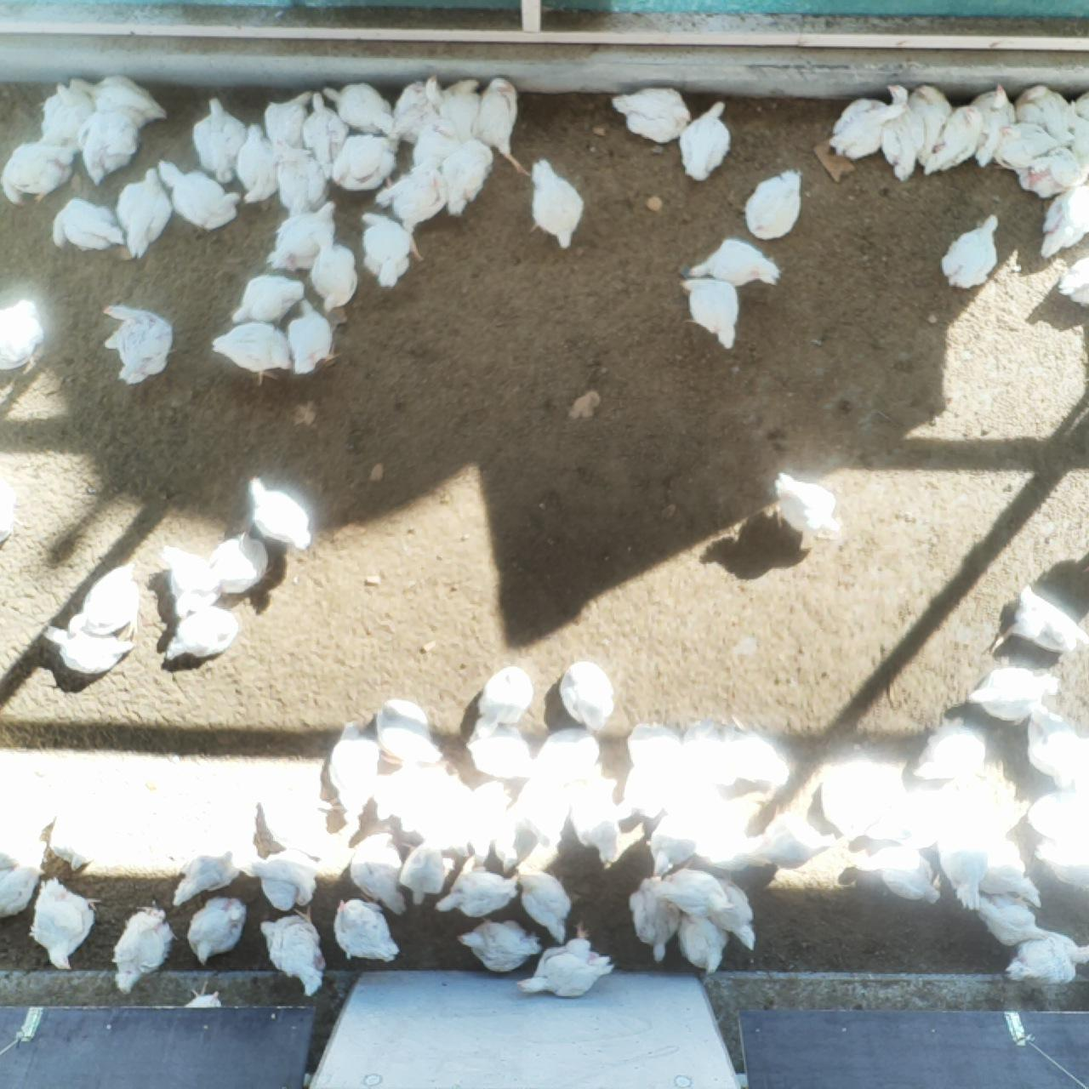chicken: (516, 918, 616, 999), (376, 162, 450, 265), (388, 74, 483, 150), (151, 157, 242, 235), (24, 873, 96, 970), (66, 559, 142, 647), (98, 304, 176, 387), (80, 95, 148, 188), (111, 903, 176, 999), (470, 75, 530, 178), (851, 841, 946, 905), (964, 665, 1065, 725), (825, 95, 909, 164), (257, 909, 322, 998), (254, 784, 328, 862), (523, 156, 585, 249), (1010, 583, 1089, 655), (68, 73, 171, 127), (682, 231, 783, 286), (455, 915, 544, 977), (0, 135, 74, 209), (113, 167, 173, 258), (937, 212, 1005, 292), (609, 82, 691, 147), (211, 322, 295, 385), (863, 793, 951, 853), (744, 162, 806, 246), (41, 622, 137, 675), (675, 274, 741, 351), (936, 816, 990, 910), (161, 543, 227, 619), (168, 846, 245, 911), (1002, 927, 1089, 984), (348, 830, 405, 917), (878, 83, 927, 184), (270, 200, 338, 272), (328, 133, 404, 197), (164, 604, 241, 667), (626, 879, 685, 961), (204, 529, 274, 598), (515, 863, 575, 943), (920, 102, 982, 179), (677, 97, 733, 182), (374, 695, 445, 762), (772, 471, 844, 537), (978, 836, 1044, 908), (1024, 713, 1089, 786), (246, 476, 310, 550), (306, 229, 362, 313), (274, 140, 330, 224), (356, 208, 414, 289), (331, 721, 379, 818), (473, 663, 535, 738), (191, 97, 245, 183), (318, 80, 396, 139), (964, 83, 1018, 168), (565, 780, 620, 863), (975, 891, 1052, 949), (645, 803, 702, 881), (753, 813, 835, 867), (188, 893, 247, 968), (722, 724, 792, 787), (690, 801, 753, 871), (700, 876, 758, 952), (432, 867, 516, 919), (228, 270, 306, 326), (912, 719, 986, 778), (467, 773, 517, 860), (511, 770, 568, 846), (419, 72, 480, 143), (333, 897, 397, 964), (302, 90, 349, 180), (50, 197, 124, 254), (287, 299, 341, 377), (39, 81, 94, 157), (247, 852, 316, 912), (647, 870, 733, 918), (397, 761, 453, 834), (670, 908, 731, 975), (400, 831, 450, 912), (232, 121, 281, 202), (627, 726, 691, 788), (905, 81, 951, 167), (50, 797, 103, 871), (555, 659, 613, 726), (685, 721, 741, 790), (0, 784, 61, 847), (1024, 146, 1089, 205), (463, 724, 532, 779), (530, 727, 600, 781), (443, 137, 489, 218), (370, 758, 427, 823), (0, 295, 45, 377), (261, 90, 318, 150), (1038, 183, 1083, 258), (1022, 786, 1089, 836), (1011, 80, 1072, 133), (820, 763, 864, 835), (996, 123, 1059, 171), (1035, 836, 1089, 892), (412, 119, 464, 175), (0, 857, 42, 919), (622, 761, 666, 819), (1054, 248, 1089, 316), (0, 831, 48, 877), (179, 974, 227, 1011), (0, 485, 19, 547), (1067, 116, 1089, 169), (1063, 183, 1089, 227), (1074, 89, 1089, 119)
